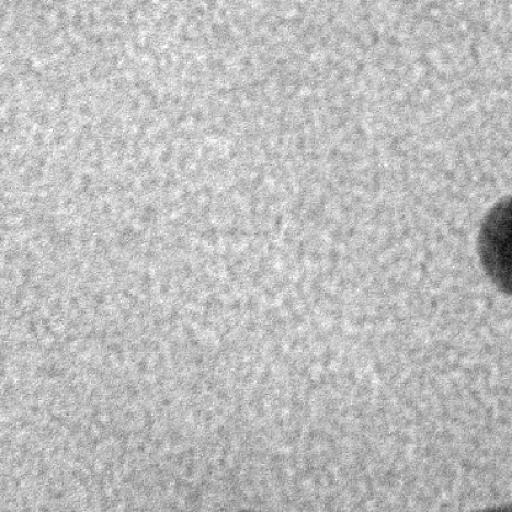Nanoparticles: (474, 196, 508, 293)
